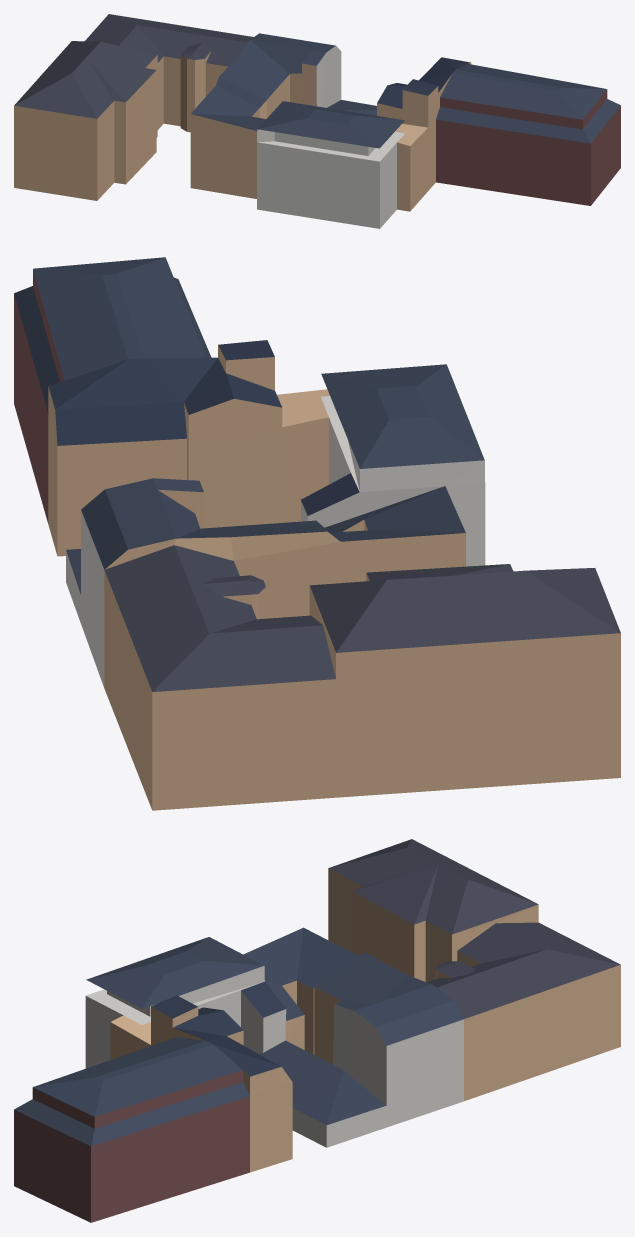
The model's file is Building_04.fbx.
The picture shows the model from 3 angles, top to bottom: view 1: azimuth 30°, elevation 25°; view 2: azimuth 150°, elevation 25°; view 3: azimuth 270°, elevation 25°; orthographic projection. The views are drawn at different scales.
Parts seen in each view (by area): view 1: Building_04; view 2: Building_04; view 3: Building_04.
Boxes of the visible parts, x1,y1,x2,y2 form: Building_04: (14,14,620,228); Building_04: (14,257,620,810); Building_04: (14,839,620,1222).
Bounding box in the file's own units: 78.57 × 16.52 × 71.08.
